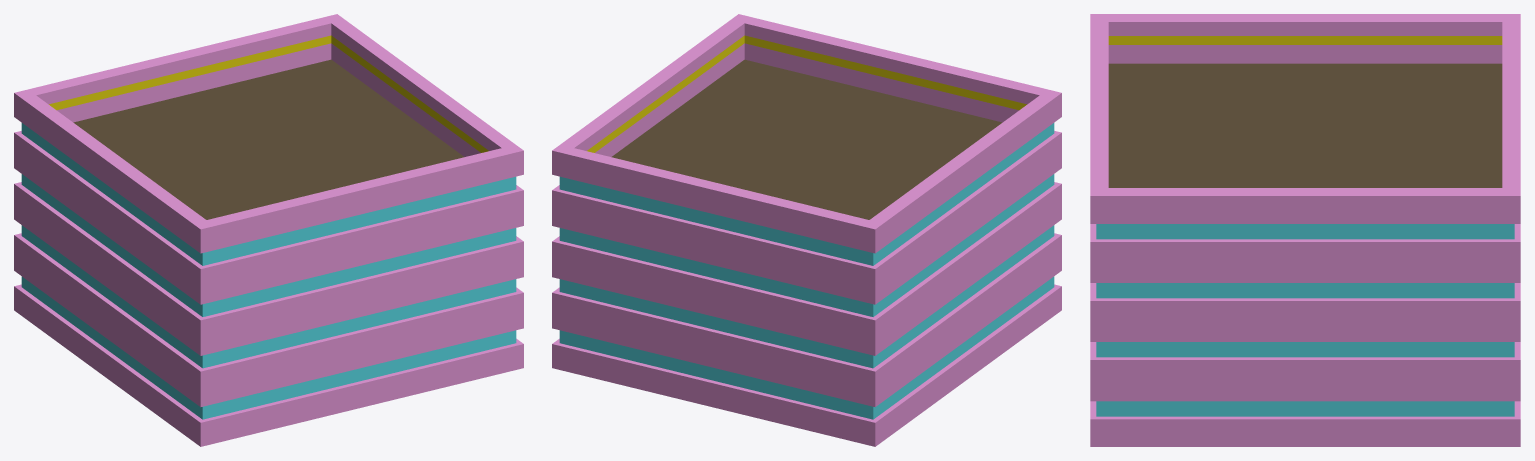
Rendered from Flower_Bed_02.fbx.
3 views of the same model, side by side, from view 1: azimuth 30°, elevation 25°; view 2: azimuth 150°, elevation 25°; view 3: azimuth 270°, elevation 25° (orthographic). The views are drawn at different scales.
Visible parts, largest first — view 1: Flower_Bed_02; view 2: Flower_Bed_02; view 3: Flower_Bed_02.
Boxes of the visible parts, x1=… form: Flower_Bed_02: x1=14, y1=14, x2=523, y2=446; Flower_Bed_02: x1=552, y1=14, x2=1061, y2=446; Flower_Bed_02: x1=1090, y1=14, x2=1520, y2=446.
Size of the model in its own units: 122 by 78.4 by 122.
